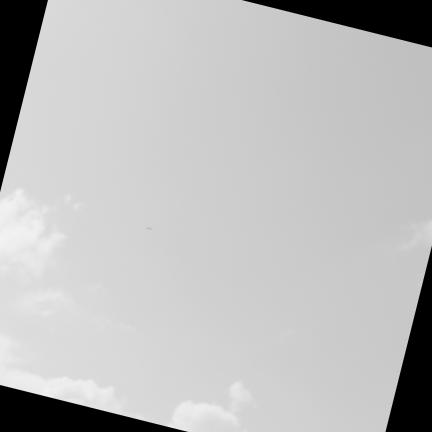Shahed: (145, 227, 152, 229)
